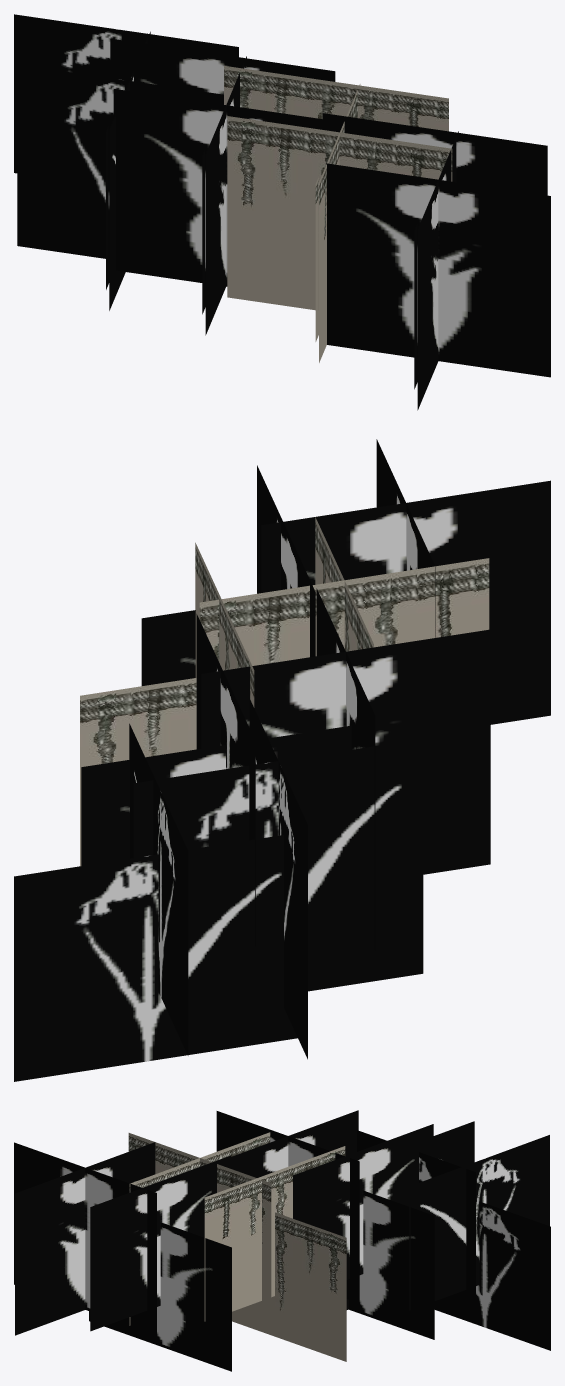
Rendered from chao01.obj.
3 views of the same model, one above another, from view 1: azimuth 30°, elevation 25°; view 2: azimuth 150°, elevation 25°; view 3: azimuth 270°, elevation 25° (orthographic). The views are drawn at different scales.
Visible parts, largest first — view 1: chao01; view 2: chao01; view 3: chao01.
Boxes of the visible parts, x1,y1,x2,y2 form: chao01: (14,14,550,410); chao01: (14,439,550,1081); chao01: (14,1110,550,1371).
Bounding box in the file's own units: 23.57 × 18.62 × 49.12.
